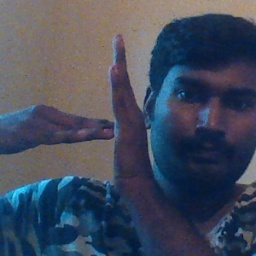Z: (30, 30, 157, 181)
